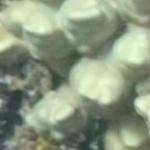alive: (8, 10, 146, 147)
